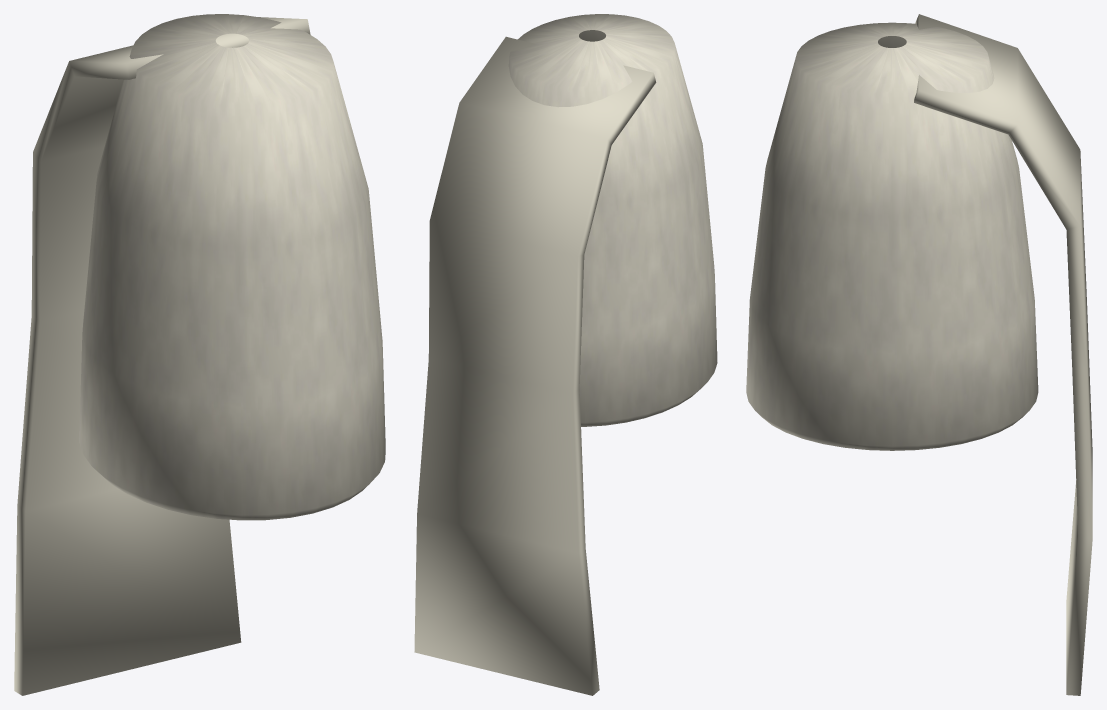
The model's file is yeniceri_borku.glb.
The picture shows the model from 3 angles, left to right: view 1: azimuth 30°, elevation 25°; view 2: azimuth 150°, elevation 25°; view 3: azimuth 270°, elevation 25°; orthographic projection. The views are drawn at different scales.
Parts seen in each view (by area): view 1: yeniceri_borku; view 2: yeniceri_borku; view 3: yeniceri_borku.
Boxes of the visible parts, <box> form: yeniceri_borku: <box>14,14,385,695</box>; yeniceri_borku: <box>414,14,717,695</box>; yeniceri_borku: <box>746,14,1092,695</box>.
Bounding box in the file's own units: 0.212 × 0.5554 × 0.287.
1 material, 1 textured.
